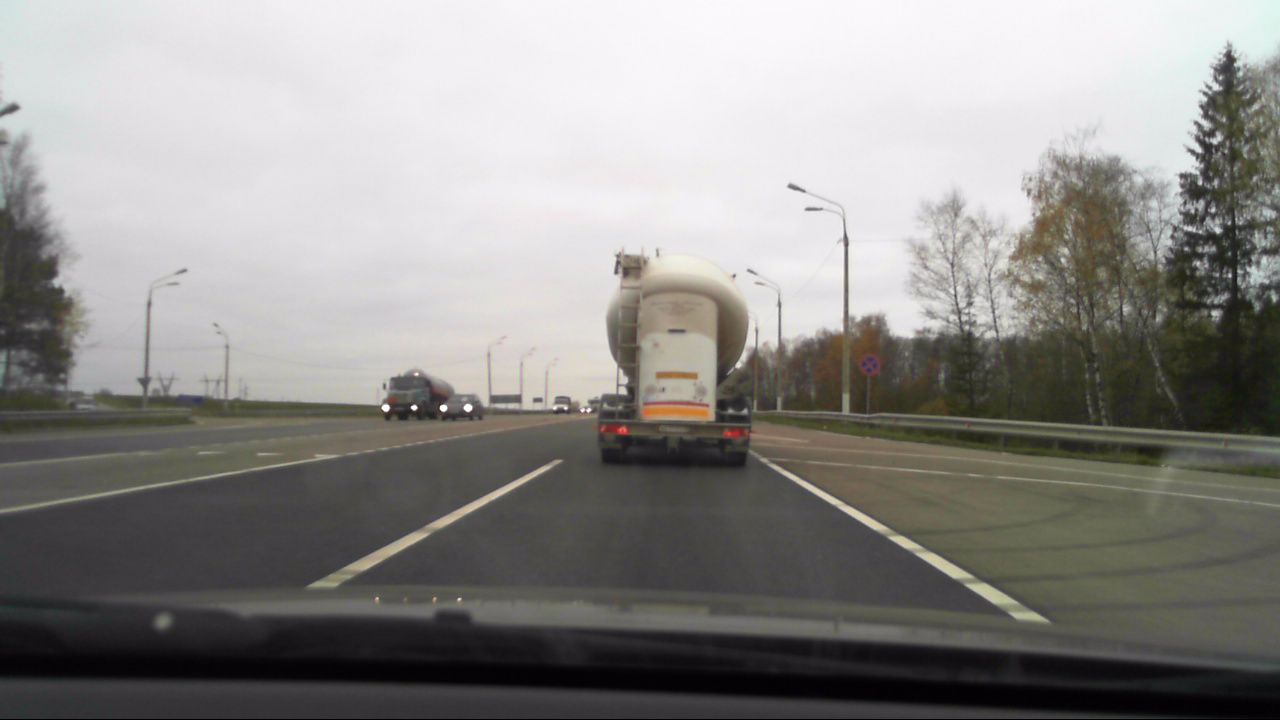No Parking: (851, 353, 885, 379)
